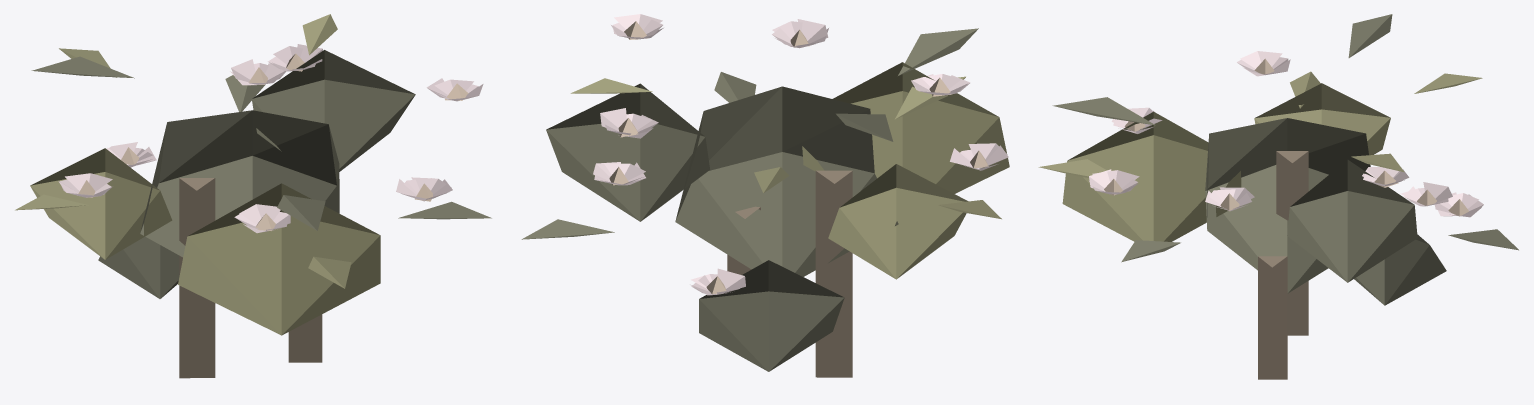
File: nong.da@flowering__winter.glb
3 renders of one model, left to right at view 1: azimuth 30°, elevation 25°; view 2: azimuth 150°, elevation 25°; view 3: azimuth 270°, elevation 25°, orthographic. The views are drawn at different scales.
Parts seen in each view (by area): view 1: nong.da@flowering__winter; view 2: nong.da@flowering__winter; view 3: nong.da@flowering__winter.
Part boxes in pixels (x1,y1,x2,y2): nong.da@flowering__winter: (15, 14, 491, 378); nong.da@flowering__winter: (521, 14, 1009, 377); nong.da@flowering__winter: (1038, 14, 1518, 379).
Size of the model in its own units: 1.41 by 0.966 by 1.51.
